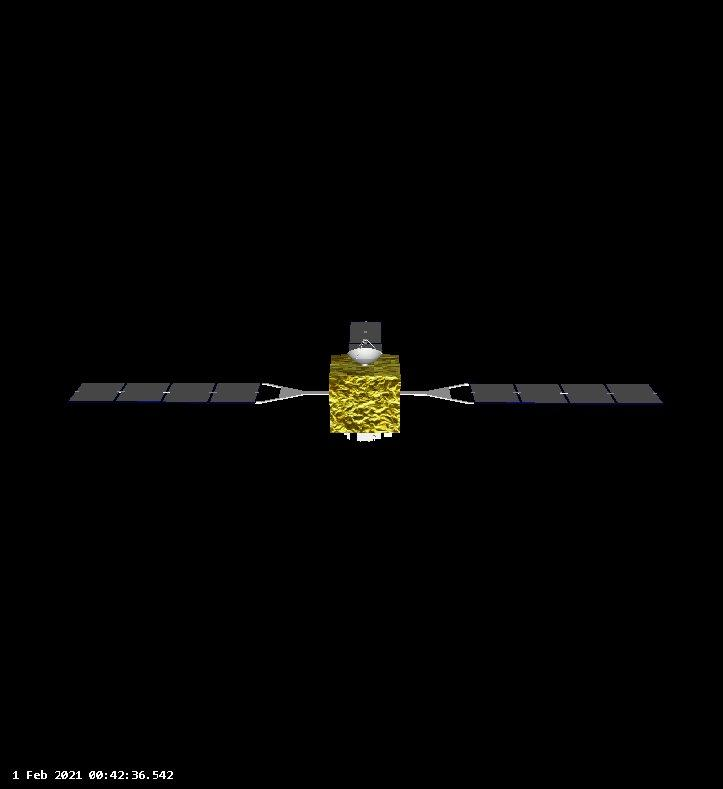antenna: (345, 338, 384, 363)
body: (328, 352, 402, 435)
solar: (67, 379, 263, 405), (466, 381, 666, 406), (346, 319, 384, 354)
